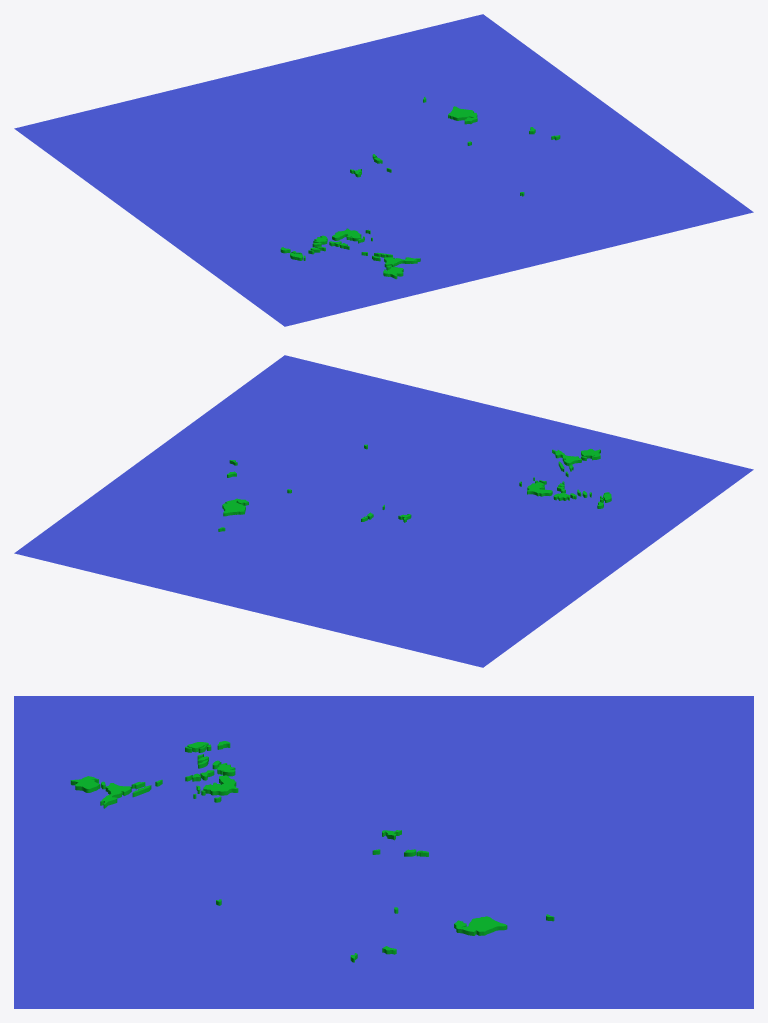
Rendered from riauislandsmap.fbx.
3 views of the same model, one above another, from view 1: azimuth 30°, elevation 25°; view 2: azimuth 150°, elevation 25°; view 3: azimuth 270°, elevation 25° (orthographic). The views are drawn at different scales.
Parts seen in each view (by area): view 1: Plane, IDN1796; view 2: Plane, IDN1796; view 3: Plane, IDN1796.
Part boxes in pixels (box(x1,y1,x2,y2)): Plane: box(14, 14, 753, 326); IDN1796: box(280, 97, 560, 279); Plane: box(14, 355, 753, 667); IDN1796: box(218, 444, 611, 531); Plane: box(14, 696, 753, 1008); IDN1796: box(70, 741, 554, 962).
Bounding box in the file's own units: 320 × 2.19 × 320.
